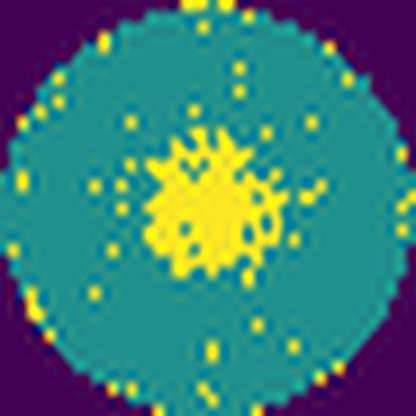Center: (145, 125, 289, 280)
